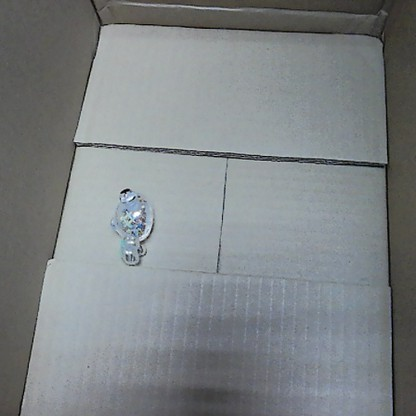whitefish: (110, 184, 154, 267)
